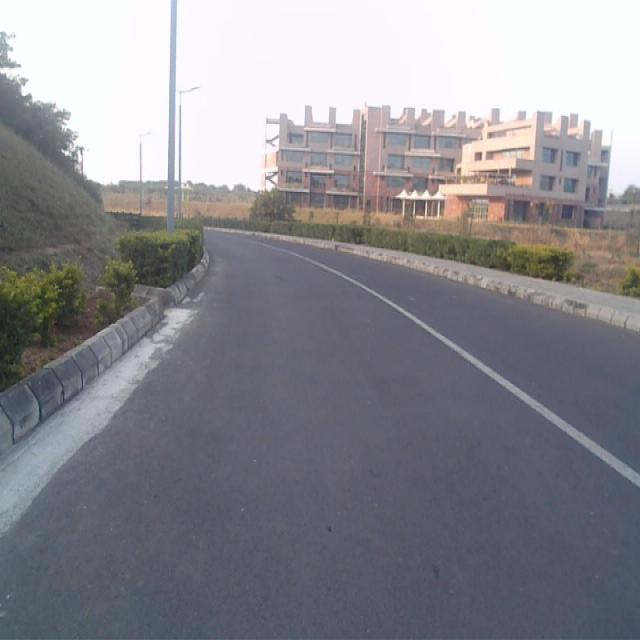lane: (0, 237, 640, 640)
